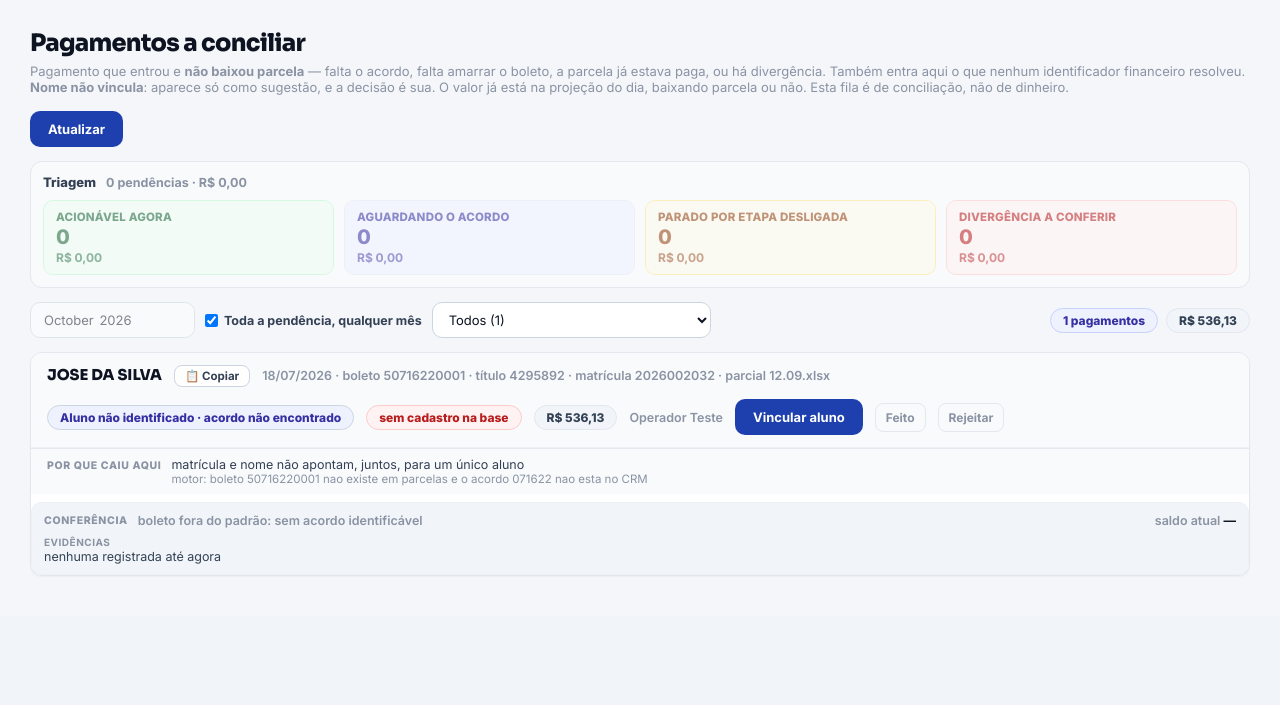
it: Fila de pagamentos sem vínculo › candidato por nome é sugestão: aparece rotulado, e não vincula sozinho
What coordinates should you click on to do the following:
click the button "Vincular aluno"
I would click on:
 (799, 417)
Its box is [735,399,863,435].
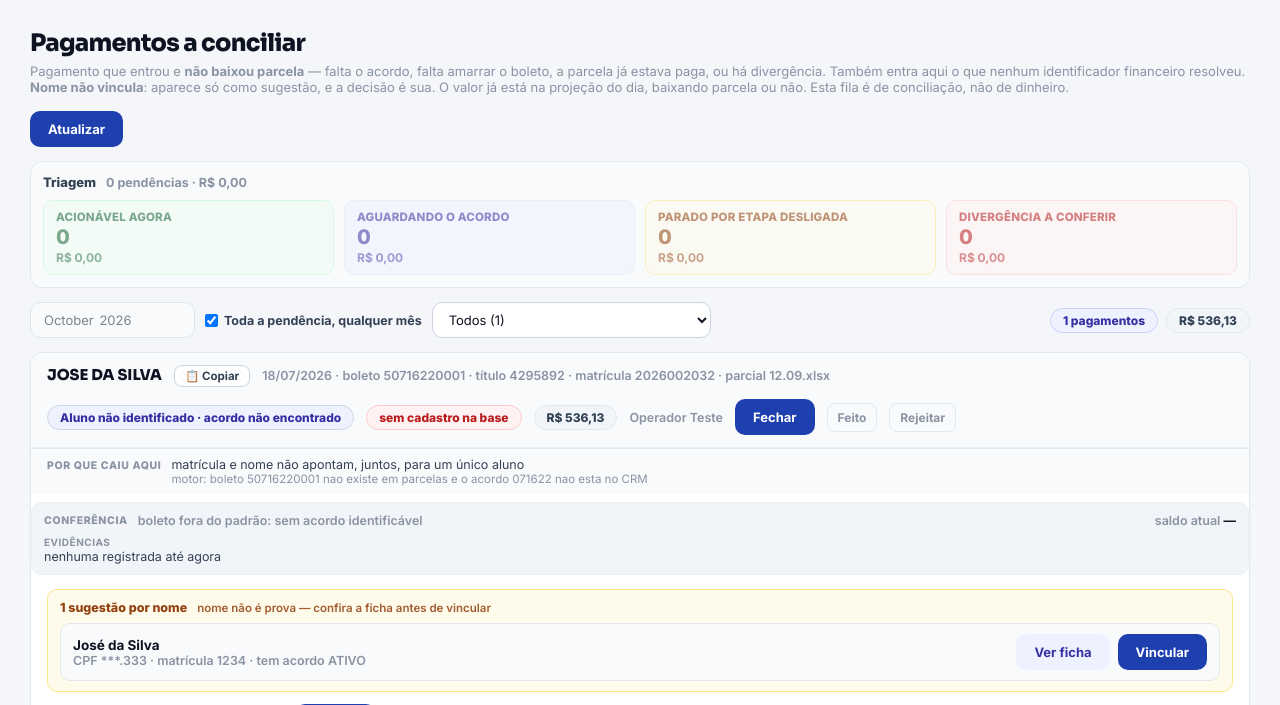
Result: the text "1 sugestão por nome" is shown at [60,600,187,615]
Result: the text "nome não é prova — confira a ficha antes de vincular" is shown at [197,601,491,615]
Result: the text "José da Silva" is shown at [73,636,160,652]
